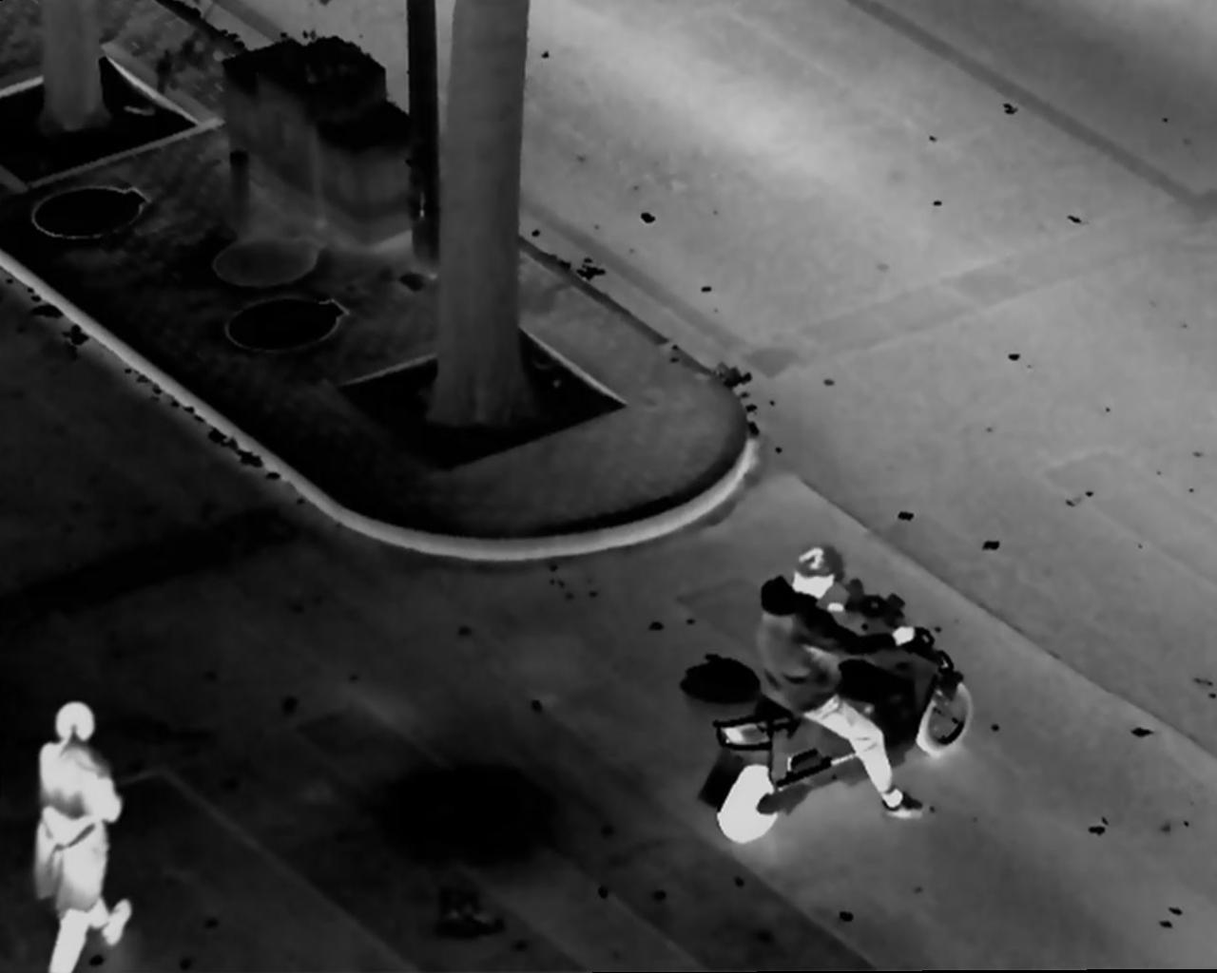person: (755, 540, 943, 825), (11, 687, 177, 955)
